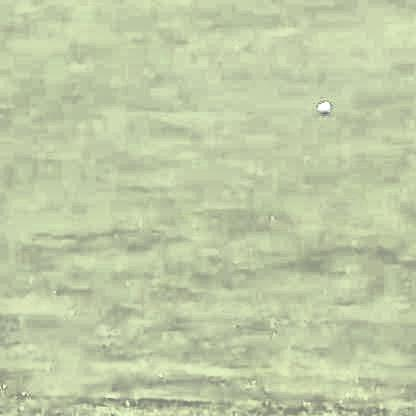golfball: (313, 98, 328, 114)
